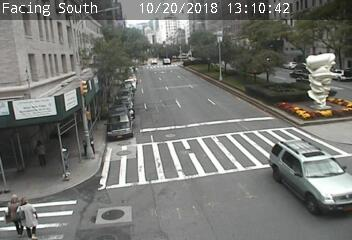car: (279, 146, 343, 203)
